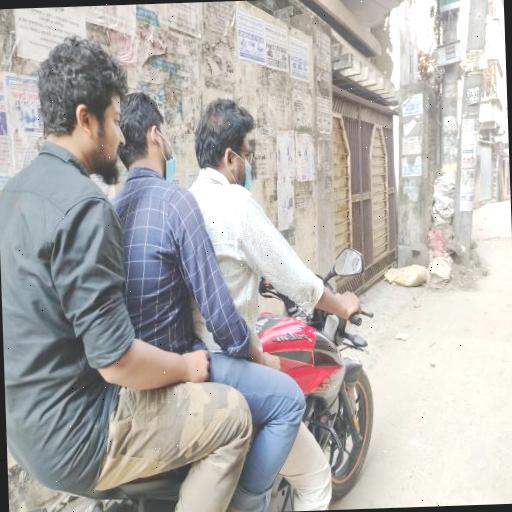no helmet: (188, 86, 279, 263)
triple riding: (0, 17, 427, 512)
